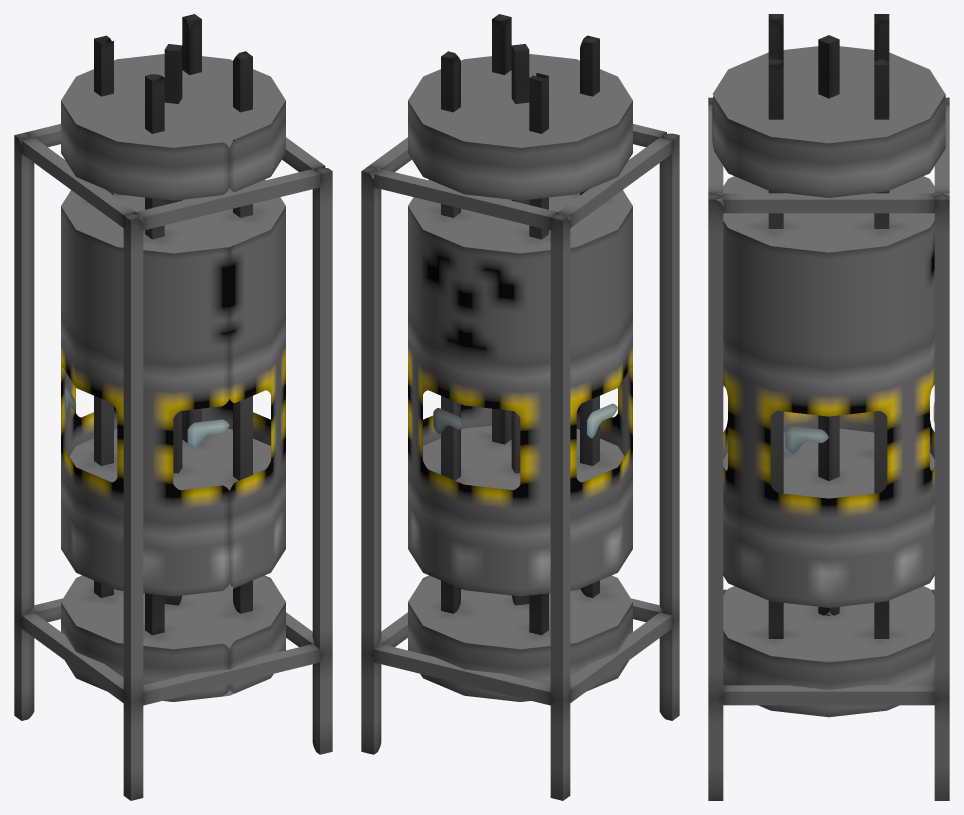
File: breeding_reactor.obj
3 renders of one model, left to right at view 1: azimuth 30°, elevation 25°; view 2: azimuth 150°, elevation 25°; view 3: azimuth 270°, elevation 25°, orthographic. The views are drawn at different scales.
Visible parts, largest first — view 1: Cube_Cube.001; view 2: Cube_Cube.001; view 3: Cube_Cube.001.
Boxes of the visible parts, x1,y1,x2,y2 form: Cube_Cube.001: (14,14,332,800); Cube_Cube.001: (361,14,679,800); Cube_Cube.001: (708,14,949,800).
Bounding box in the file's own units: 1 × 3.25 × 1.
